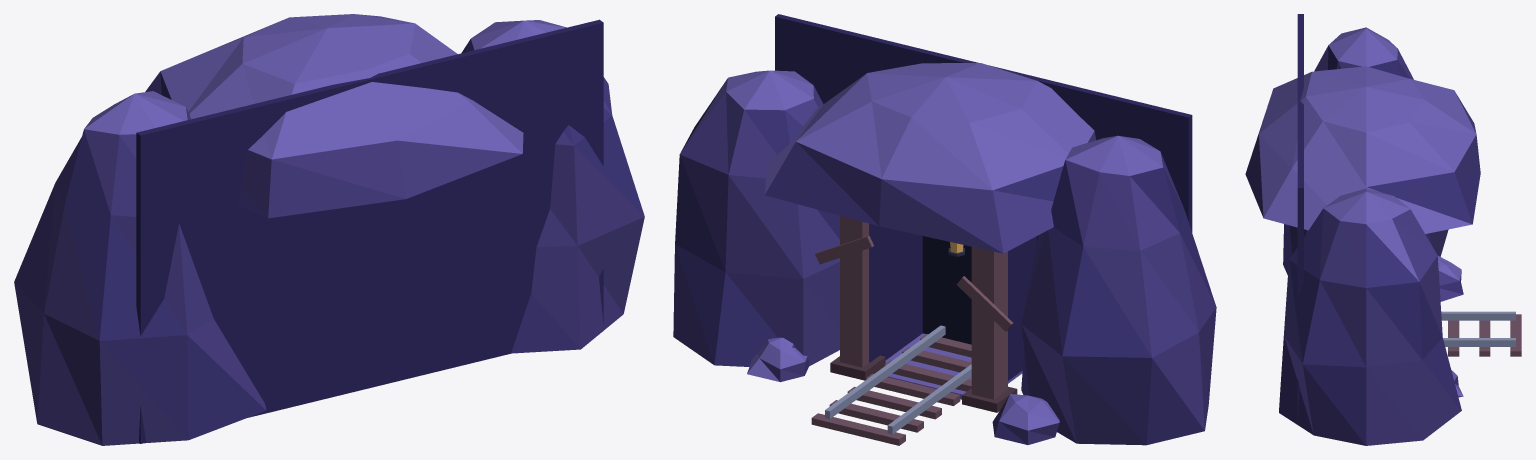
The model's file is Mine_Door_Shaft.obj.
The picture shows the model from 3 angles, left to right: view 1: azimuth 30°, elevation 25°; view 2: azimuth 150°, elevation 25°; view 3: azimuth 270°, elevation 25°; orthographic projection. The views are drawn at different scales.
Parts seen in each view (by area): view 1: Mine_Door_Shaft; view 2: Mine_Door_Shaft; view 3: Mine_Door_Shaft.
Part boxes in pixels (bbox=[...]): Mine_Door_Shaft: bbox=[14, 14, 644, 445]; Mine_Door_Shaft: bbox=[673, 14, 1216, 445]; Mine_Door_Shaft: bbox=[1245, 14, 1521, 445].
Bounding box in the file's own units: 8.25 × 4.53 × 4.43.
